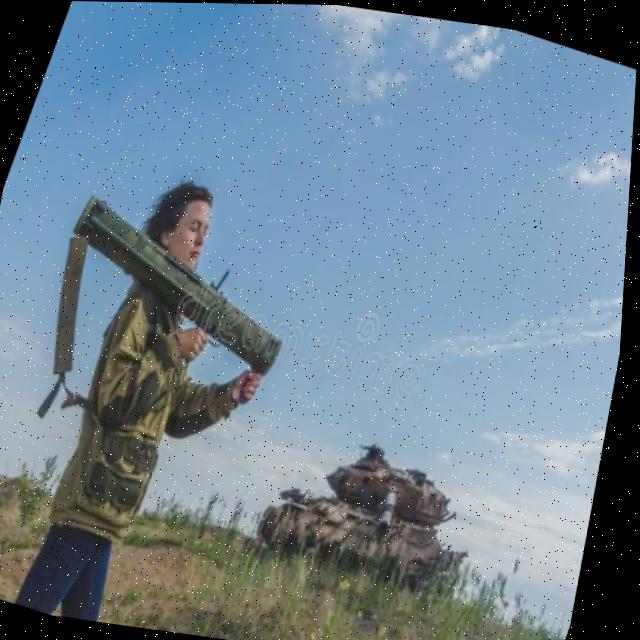rocket: (39, 180, 326, 379)
